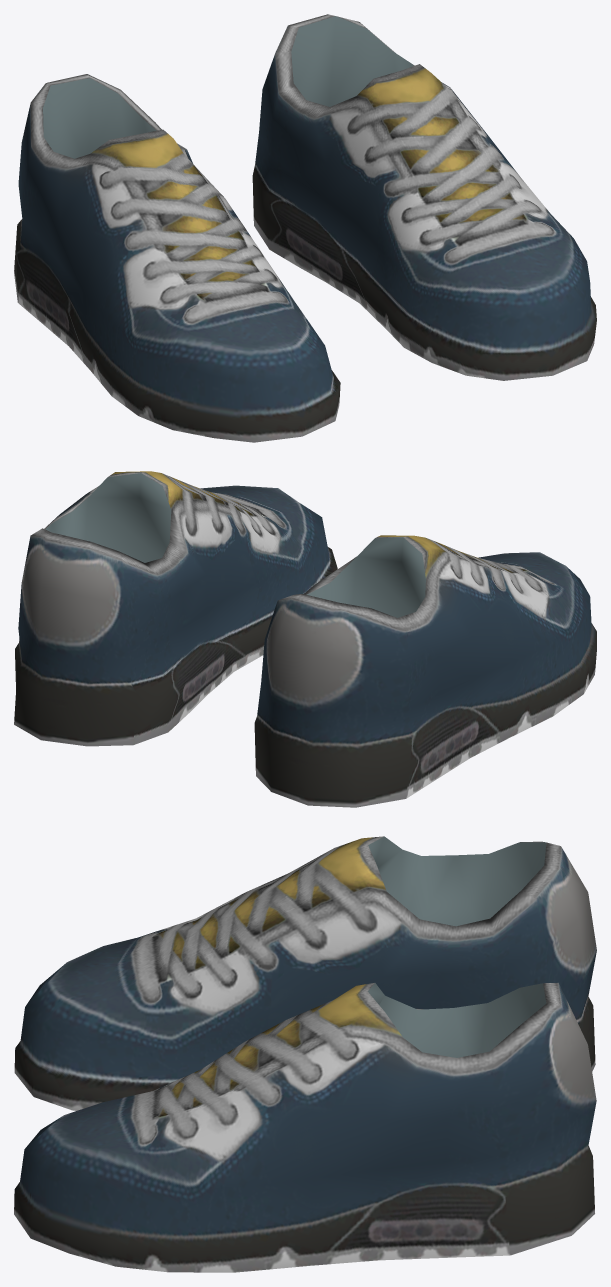
Rendered from Trainers_Blue.fbx.
The picture shows the model from 3 angles, top to bottom: view 1: azimuth 30°, elevation 25°; view 2: azimuth 150°, elevation 25°; view 3: azimuth 270°, elevation 25°; orthographic projection. The views are drawn at different scales.
Visible parts, largest first — view 1: Left_Shoe, Right_Shoe; view 2: Right_Shoe, Left_Shoe; view 3: Left_Shoe, Right_Shoe.
Part boxes in pixels (box(x1,y1,x2,y2)): Left_Shoe: box(252, 14, 596, 380); Right_Shoe: box(14, 74, 340, 442); Right_Shoe: box(254, 535, 596, 807); Left_Shoe: box(14, 471, 337, 746); Left_Shoe: box(14, 982, 596, 1272); Right_Shoe: box(14, 836, 596, 1110).
Size of the model in its own units: 0.3708 by 0.157 by 0.3615.
